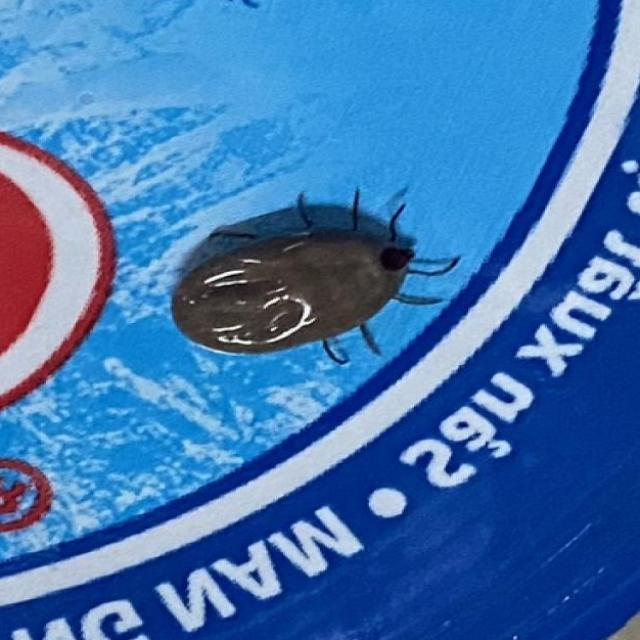Rhipicephalus Sanguineus-F-Fed: (172, 190, 461, 366)
